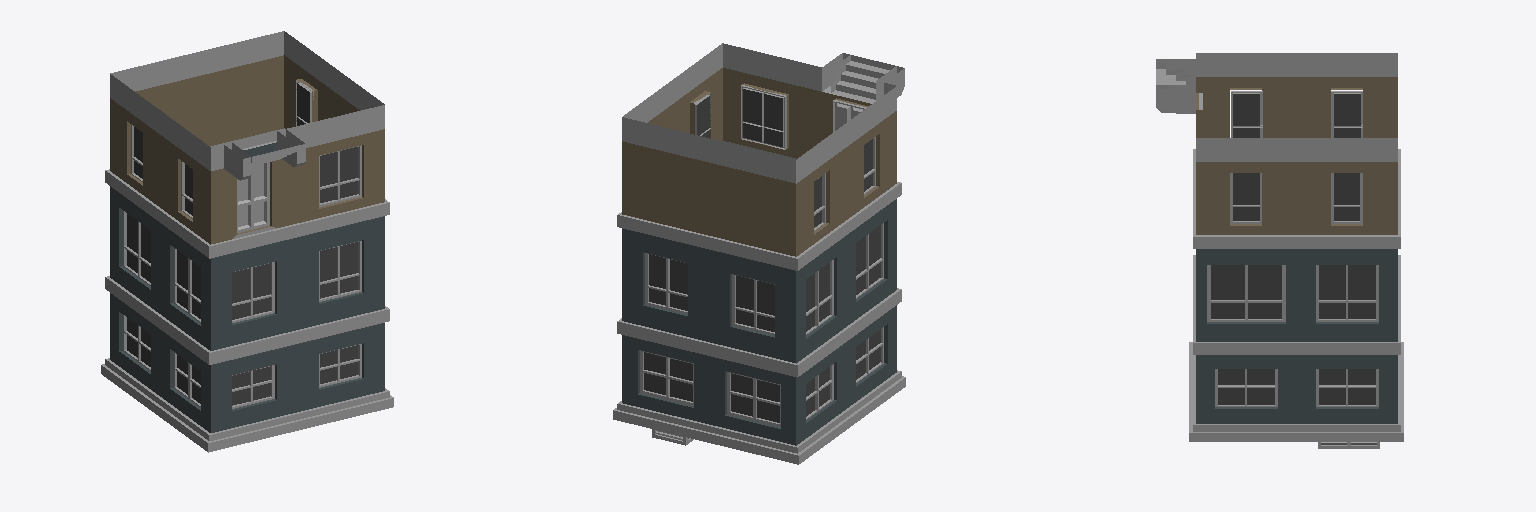
3 renders of one model, left to right at view 1: azimuth 30°, elevation 25°; view 2: azimuth 150°, elevation 25°; view 3: azimuth 270°, elevation 25°, orthographic.
Visible parts, largest first — view 1: Building_2; view 2: Building_2; view 3: Building_2.
Boxes of the visible parts, x1=… form: Building_2: x1=101, y1=31, x2=393, y2=452; Building_2: x1=613, y1=43, x2=905, y2=464; Building_2: x1=1156, y1=53, x2=1403, y2=448.
Size of the model in its own units: 32 by 52.81 by 37.
Materials: 1 (1 with a texture image).